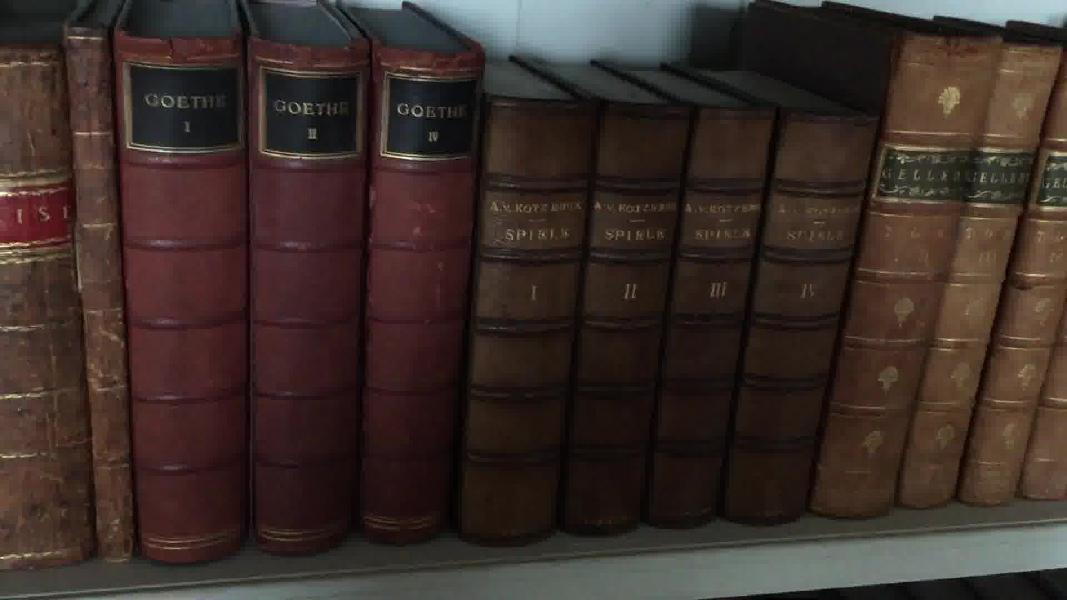Aa6-10: (56, 32, 139, 577)
Aa6-11_13: (115, 12, 479, 567)
Aa6-14_17: (470, 67, 862, 551)
